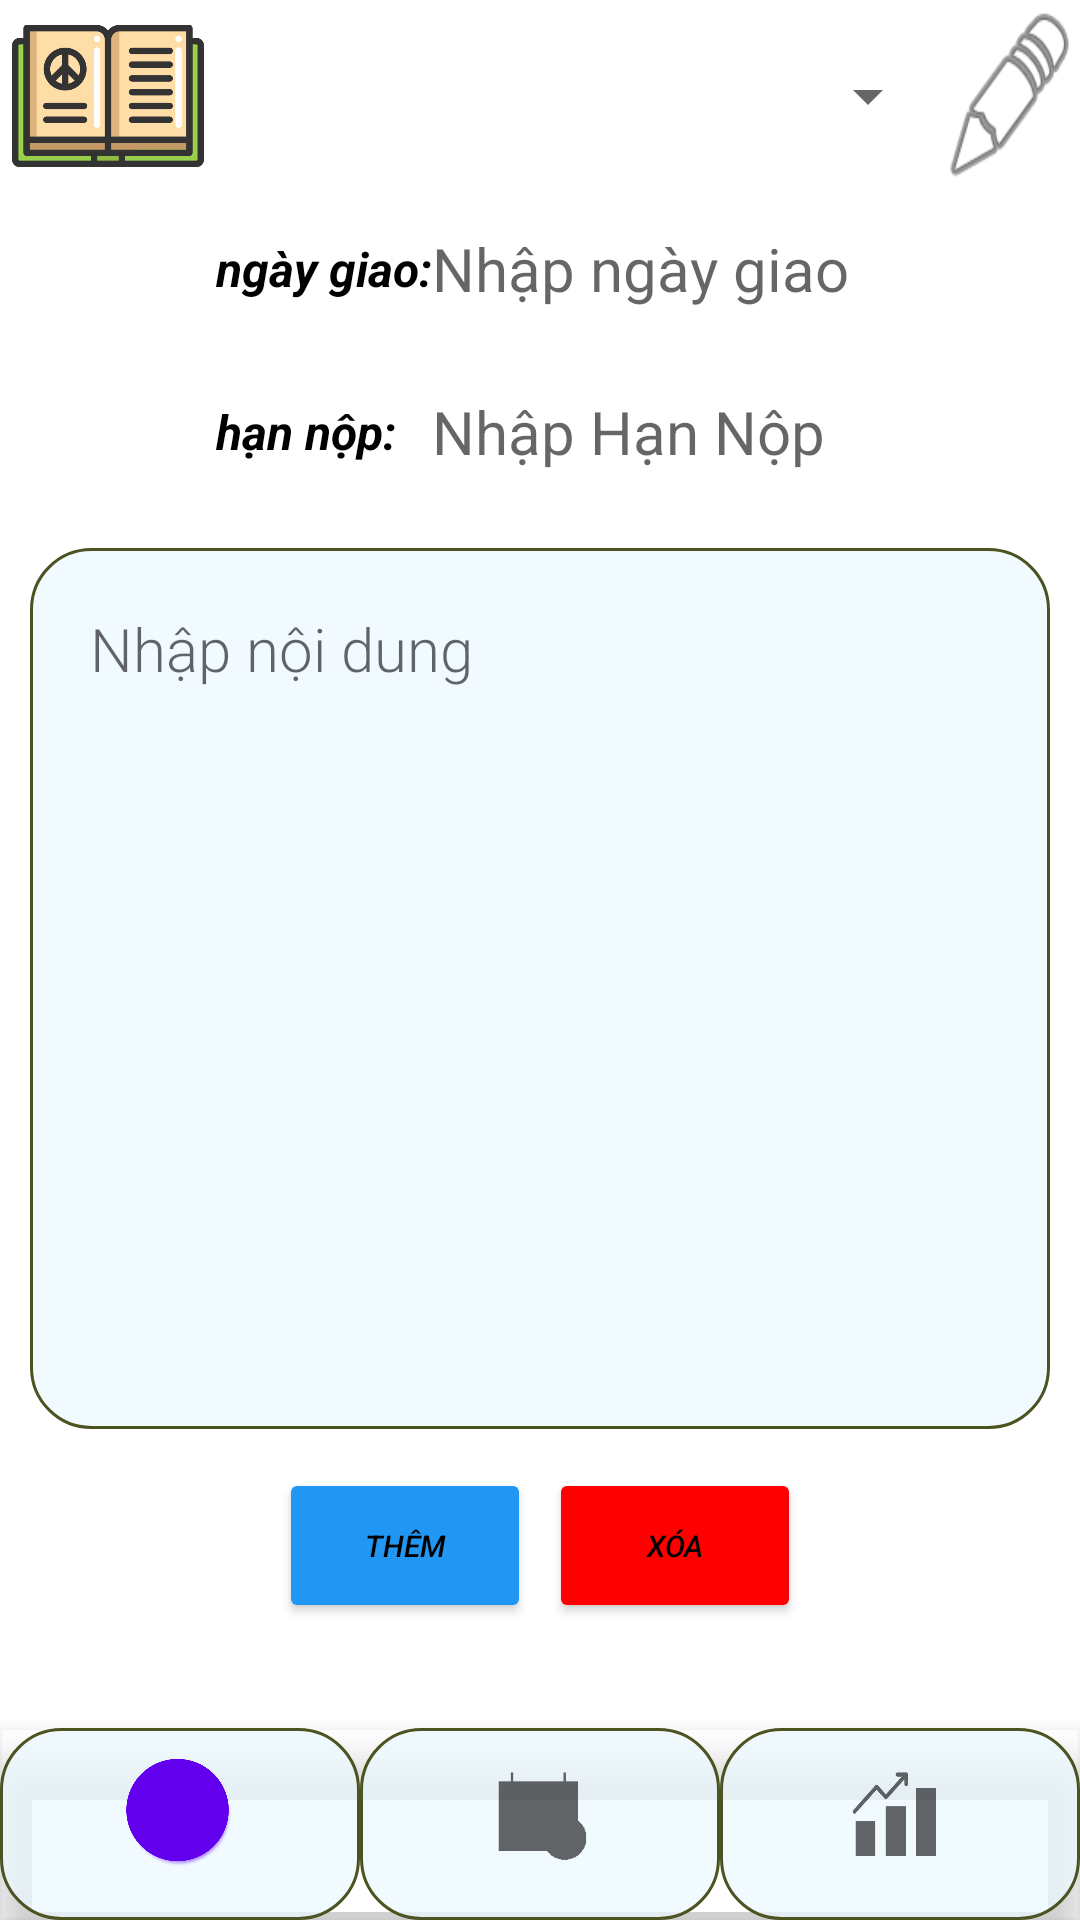

Named icons in this screenshot (1080w x 1920h) and their centers, (x,y):
edit: (1009,94)
